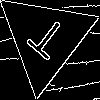T: (20, 13, 70, 68)
